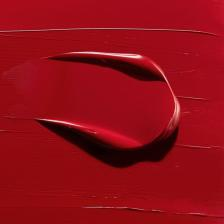red: (3, 52, 180, 150)
